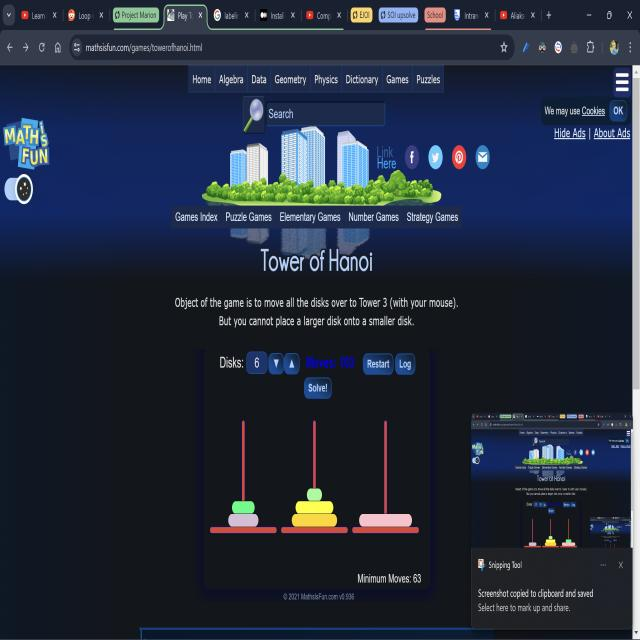disk1: (306, 488, 322, 501)
disk2: (232, 501, 255, 514)
disk3: (228, 514, 258, 527)
disk4: (296, 501, 333, 514)
disk5: (292, 514, 337, 526)
disk6: (359, 514, 412, 526)
